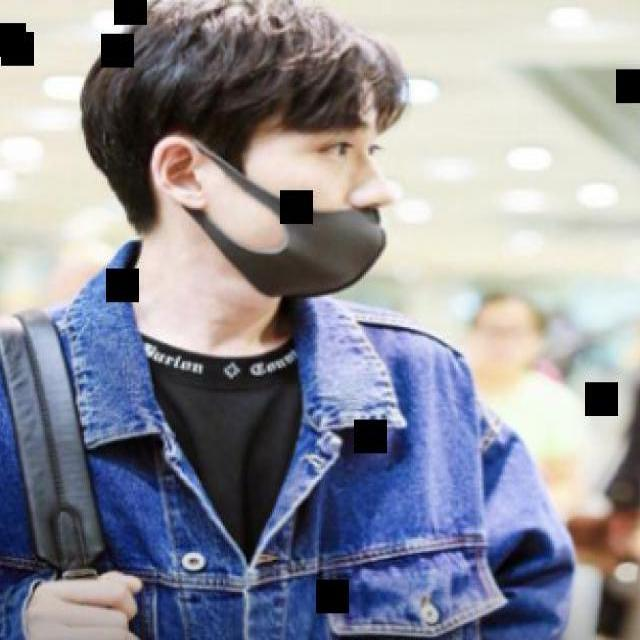hairnet: (188, 164, 399, 307)
